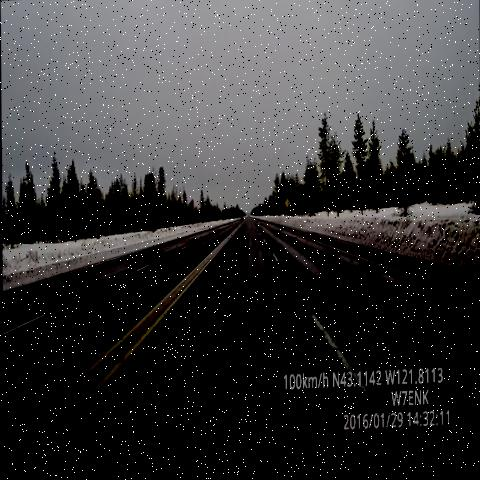pothole: (130, 250, 171, 285), (273, 227, 287, 242)
